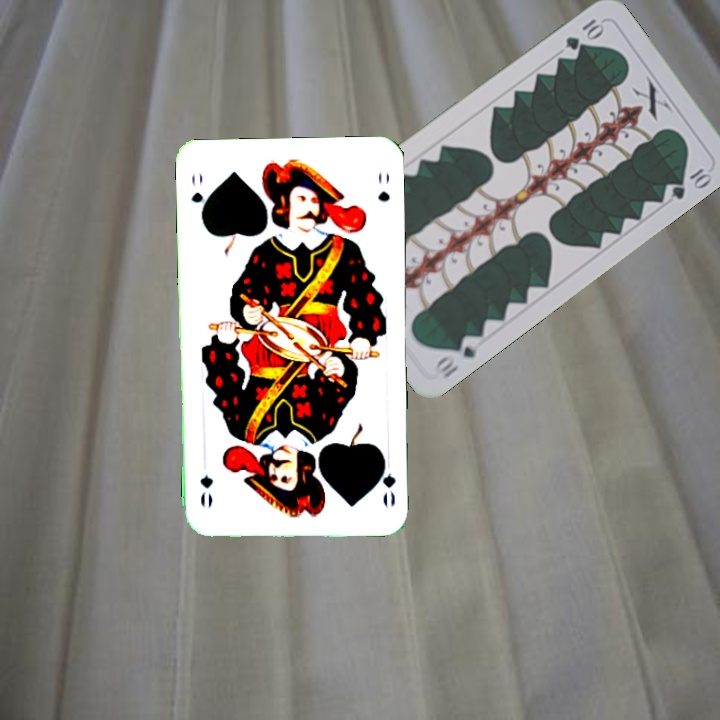G10: (429, 330, 484, 382), (561, 14, 607, 53)
GO: (374, 451, 398, 510), (187, 168, 210, 223)
